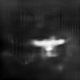plane: (28, 35, 69, 59)
